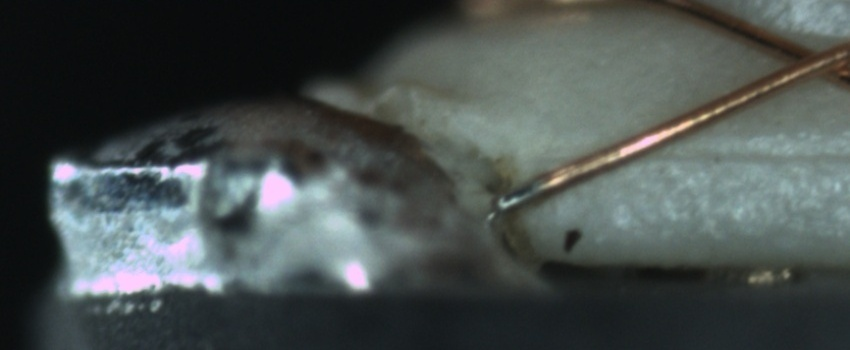CL: (760, 29, 846, 91)
DL: (617, 121, 847, 189)
TS: (496, 179, 541, 213)
